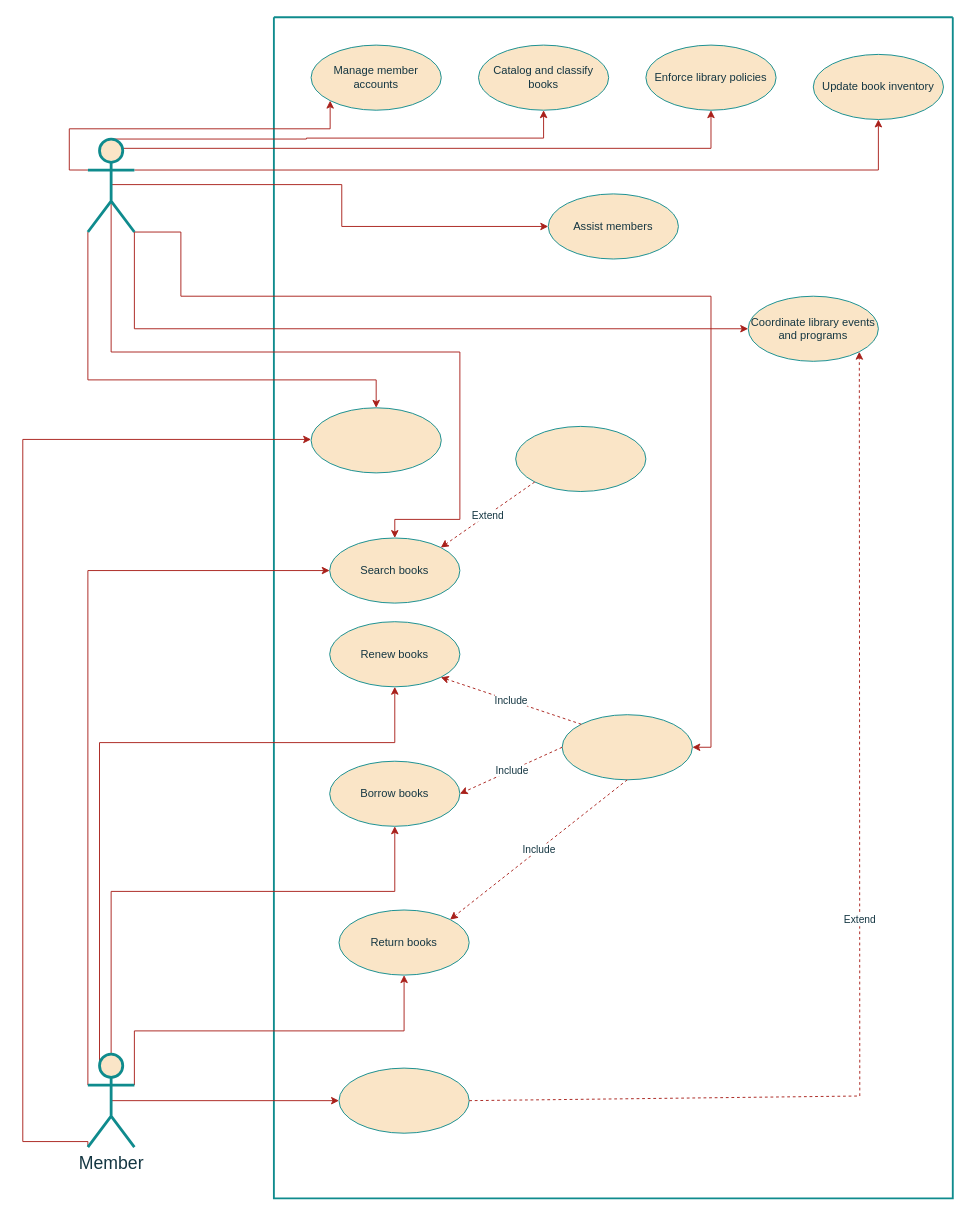
The diagram is 970 pixels wide and 1215 high, and some of its shapes have lost their labels. Each missing label, with the centre of its shape:
Librarian: point (110, 185)
Oversee circulation: point (626, 747)
Participate in library events and programs: point (403, 1100)
Reserve books: point (375, 440)
View book details: point (580, 458)
